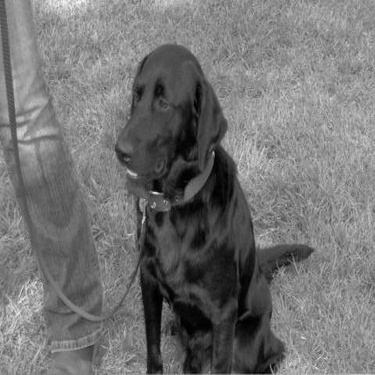dog: (93, 43, 326, 373)
